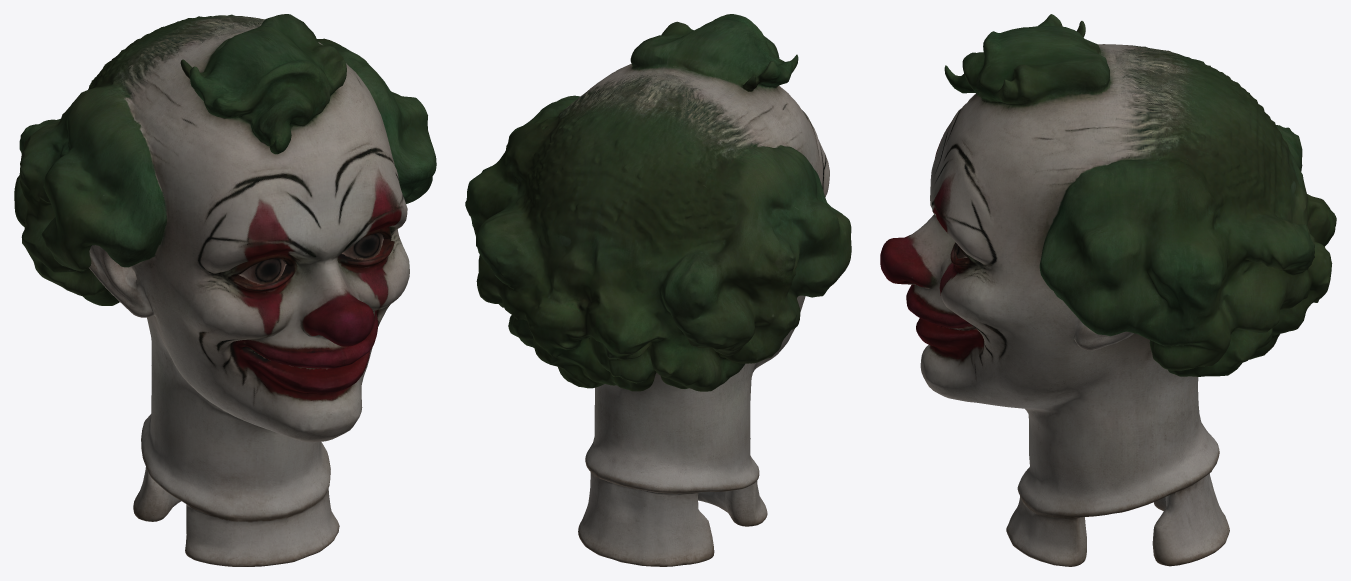
The model's file is palhaco__s2026.glb.
3 renders of one model, left to right at view 1: azimuth 30°, elevation 25°; view 2: azimuth 150°, elevation 25°; view 3: azimuth 270°, elevation 25°, orthographic. The views are drawn at different scales.
Bounding box in the file's own units: 0.7352 × 0.9904 × 0.8197.
Materials: 1 (1 with a texture image).
